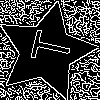T: (21, 26, 74, 66)
